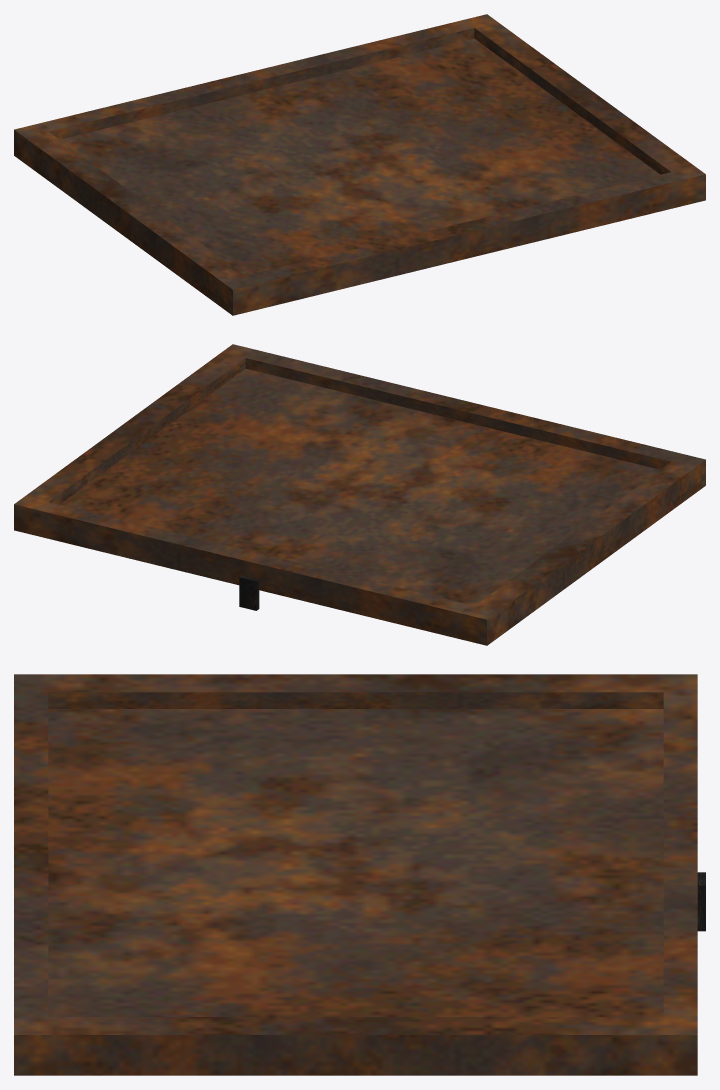
Rendered from SM_Metal_Create_02_Top.fbx.
The picture shows the model from 3 angles, top to bottom: view 1: azimuth 30°, elevation 25°; view 2: azimuth 150°, elevation 25°; view 3: azimuth 270°, elevation 25°; orthographic projection. The views are drawn at different scales.
Visible parts, largest first — view 1: SM_Metal_Create_02_Top; view 2: SM_Metal_Create_02_Top; view 3: SM_Metal_Create_02_Top.
Boxes of the visible parts, <box> form: SM_Metal_Create_02_Top: <box>14,14,705,315</box>; SM_Metal_Create_02_Top: <box>14,344,705,645</box>; SM_Metal_Create_02_Top: <box>14,674,705,1075</box>.
Bounding box in the file's own units: 200 × 18.14 × 162.
